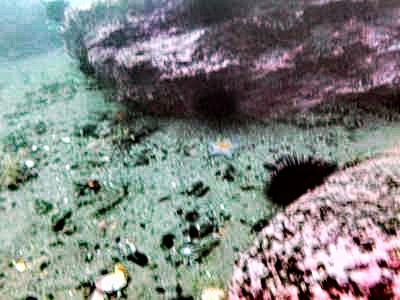urchin: (268, 153, 325, 204), (196, 85, 246, 127)
